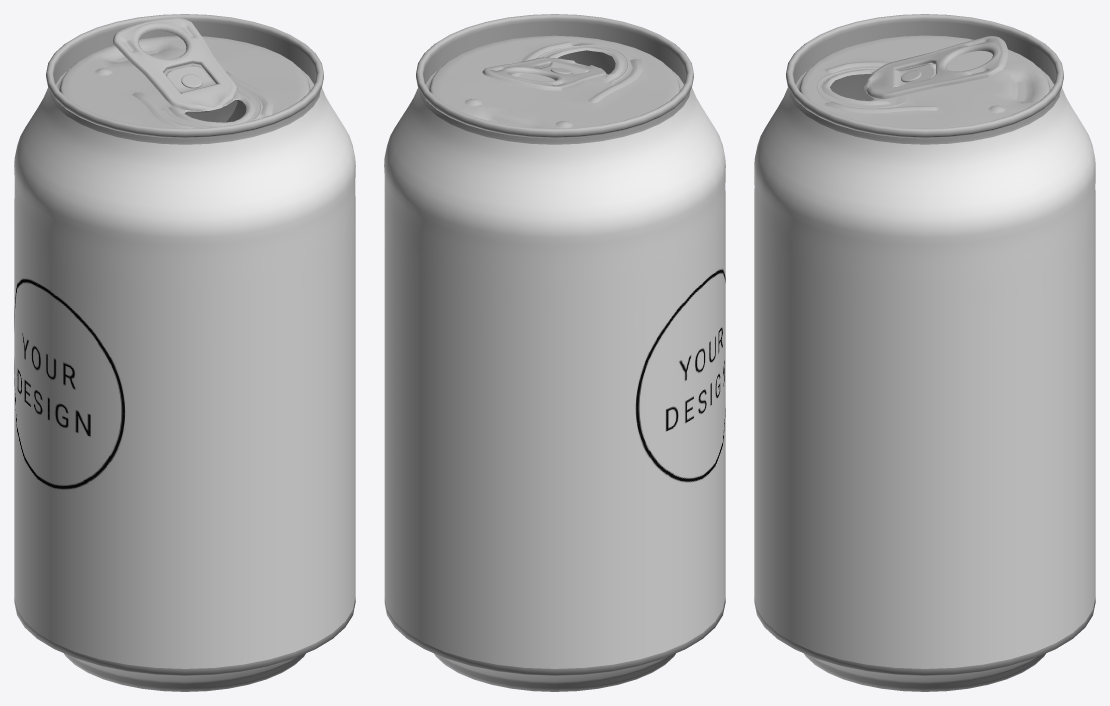
The model's file is can.fbx.
3 views of the same model, side by side, from view 1: azimuth 30°, elevation 25°; view 2: azimuth 150°, elevation 25°; view 3: azimuth 270°, elevation 25° (orthographic).
Parts seen in each view (by area): view 1: custom, cap, body, Top, Cap; view 2: custom, cap, body, Top, Inside; view 3: custom, cap, body, Top, Inside.
Part boxes in pixels (x1,y1,x2,y2): custom: (14, 88, 355, 668); cap: (46, 14, 323, 138); body: (14, 90, 355, 691); Top: (113, 17, 238, 110); Cap: (184, 100, 237, 122); custom: (384, 88, 725, 668); cap: (416, 14, 693, 138); body: (384, 89, 725, 691); Top: (482, 57, 607, 90); Inside: (557, 50, 615, 74); custom: (754, 88, 1095, 668); cap: (786, 14, 1063, 138); body: (754, 90, 1095, 691); Top: (864, 36, 1007, 99); Inside: (830, 74, 873, 100).
Size of the model in its own units: 6.67 by 12.66 by 6.66.
6 materials, 1 textured.
